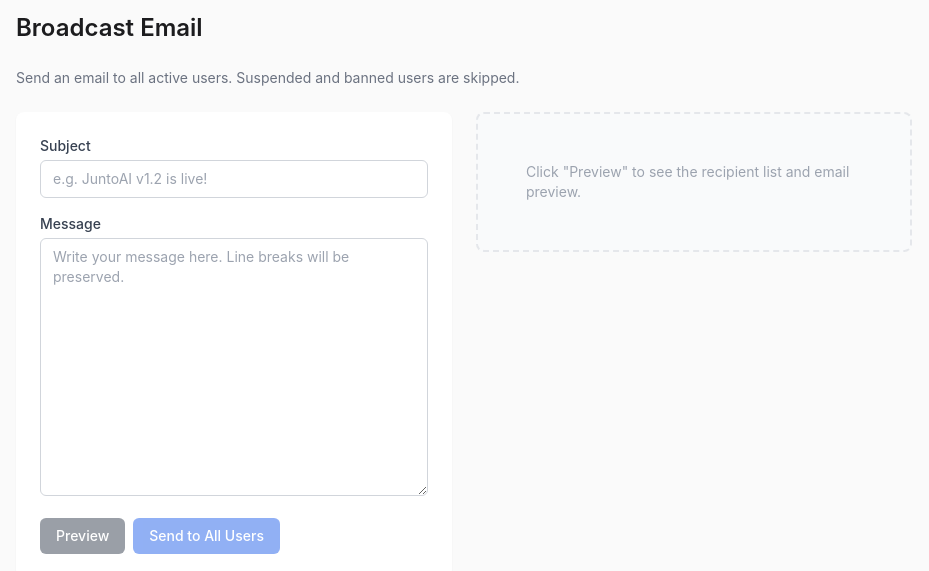
Test case: AdminBroadcastPage › shows preview data after clicking Preview
Type "Test Subject" into the field labelled "Subject" at [234, 179], box [40,160,428,198]
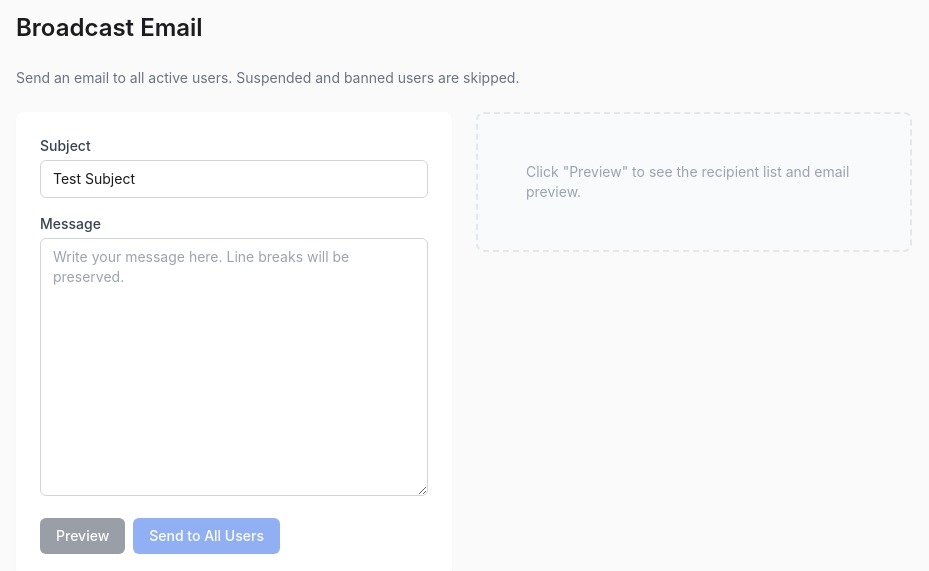
Type "Hello" into the text box labelled "Message" at [234, 367], box [40,238,428,496]
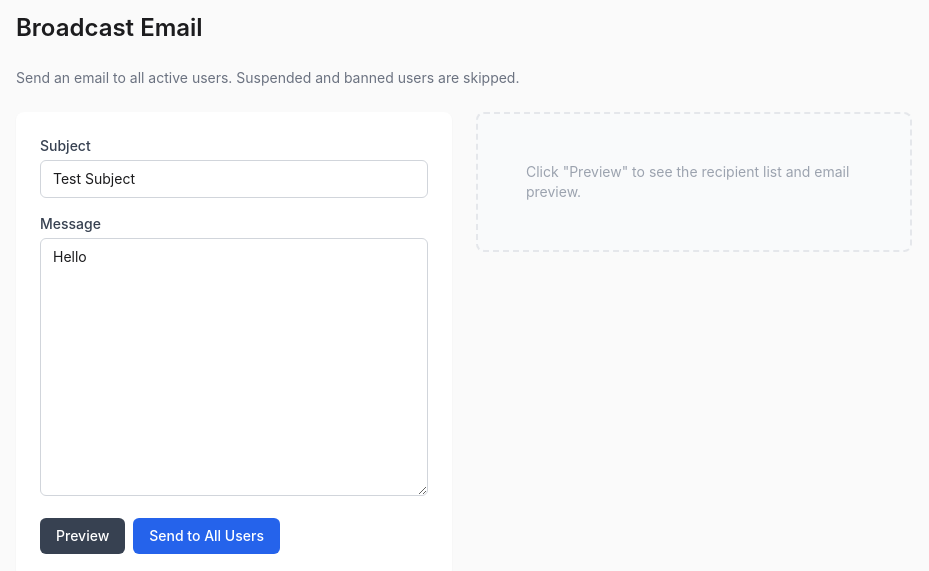
Click the button "Preview" at [83, 536], box [40,518,125,554]
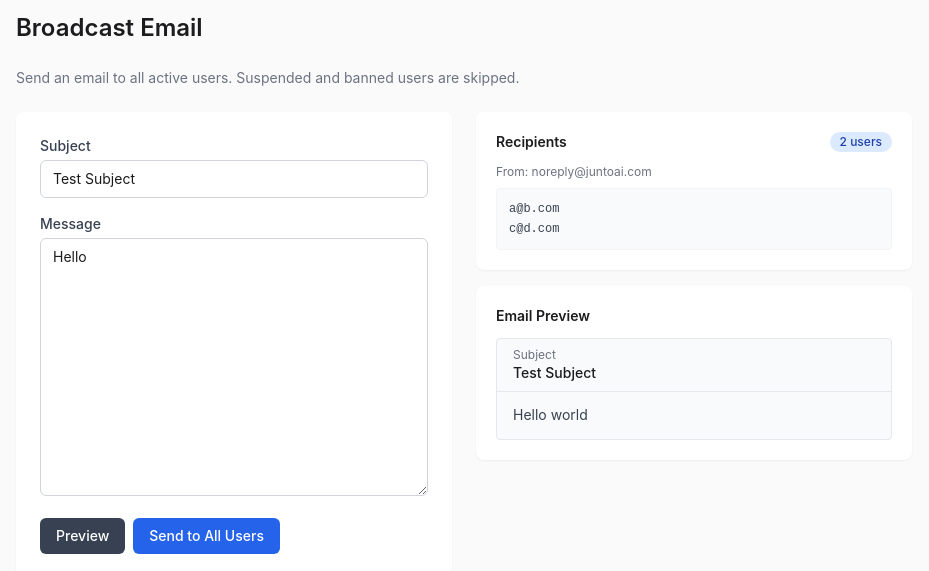
Now the heading "Recipients" is shown, box [496,132,567,152]
Now the text "2 users" is shown, box [830,132,892,152]
Now the list item "a@b.com" is shown, box [509,202,559,216]
